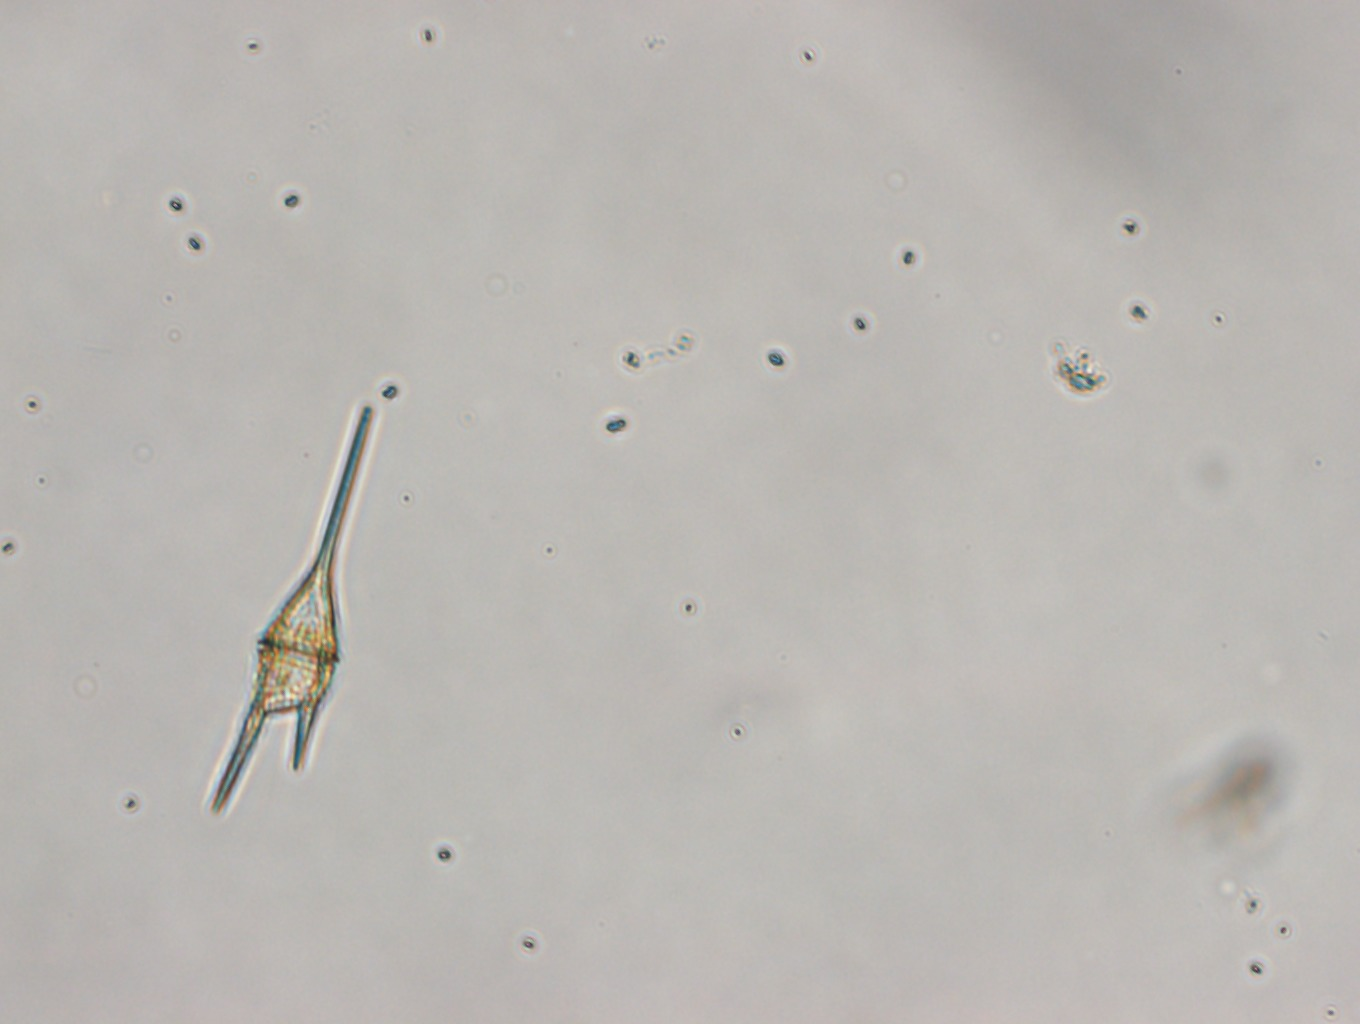ceratium furca: (211, 401, 375, 817)
